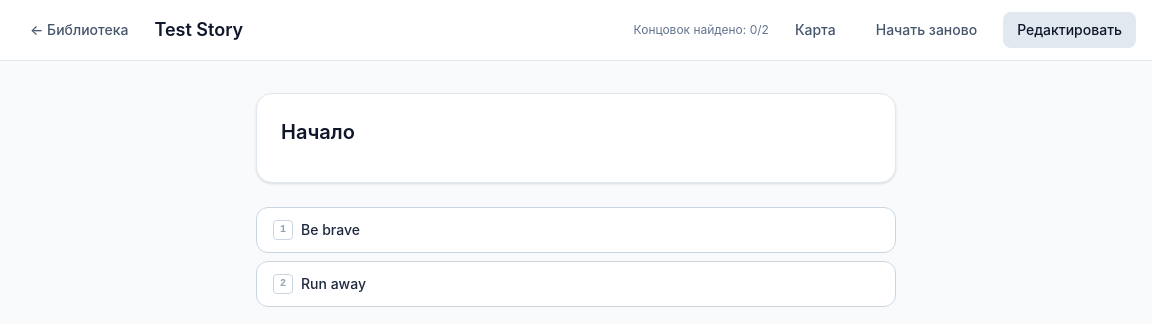
it: PlayerScreen › toggles between text and map views without crashing
Expected: the heading "Начало" is shown, [281, 120, 355, 144]
Click the button "Карта" at (815,30), box [781, 12, 850, 48]
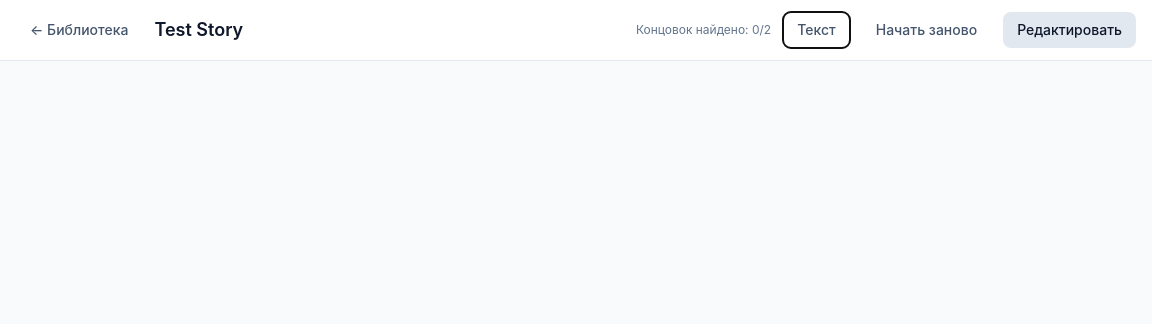
Expected: the button "Текст" is shown
Expected: the heading "Начало" is gone
Click the button "Текст" at (816,30), box [783, 12, 850, 48]
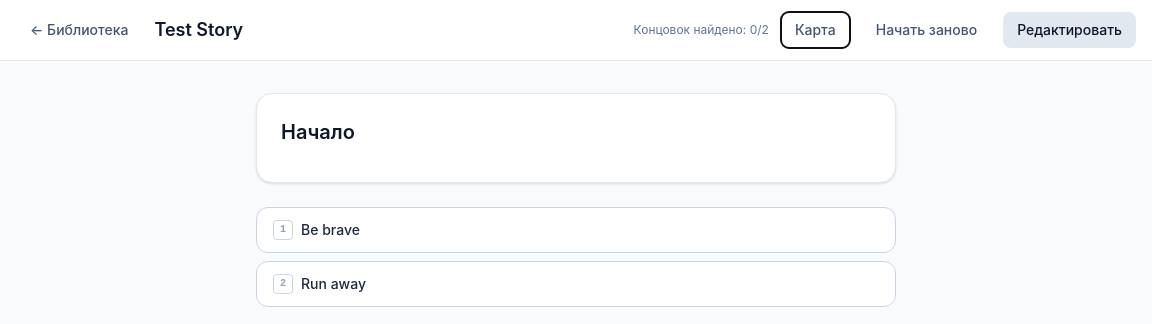
Expected: the button "Карта" is shown, [781, 12, 850, 48]
Expected: the heading "Начало" is shown, [281, 120, 355, 144]
